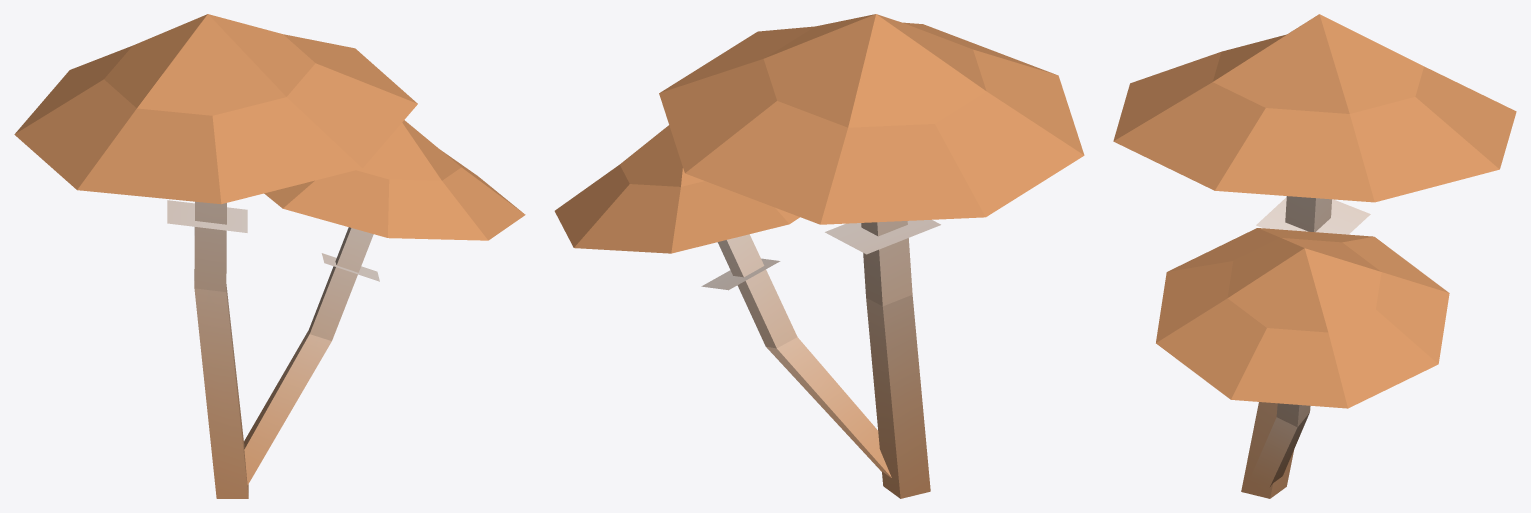
The model's file is Mushroom_i_07.fbx.
3 views of the same model, side by side, from view 1: azimuth 30°, elevation 25°; view 2: azimuth 150°, elevation 25°; view 3: azimuth 270°, elevation 25° (orthographic). The views are drawn at different scales.
Visible parts, largest first — view 1: Mushroom_i_07; view 2: Mushroom_i_07; view 3: Mushroom_i_07.
Boxes of the visible parts, x1,y1,x2,y2 form: Mushroom_i_07: (14, 14, 525, 498); Mushroom_i_07: (554, 14, 1084, 498); Mushroom_i_07: (1113, 14, 1516, 498).
Size of the model in its own units: 32.67 by 32.11 by 24.65.
